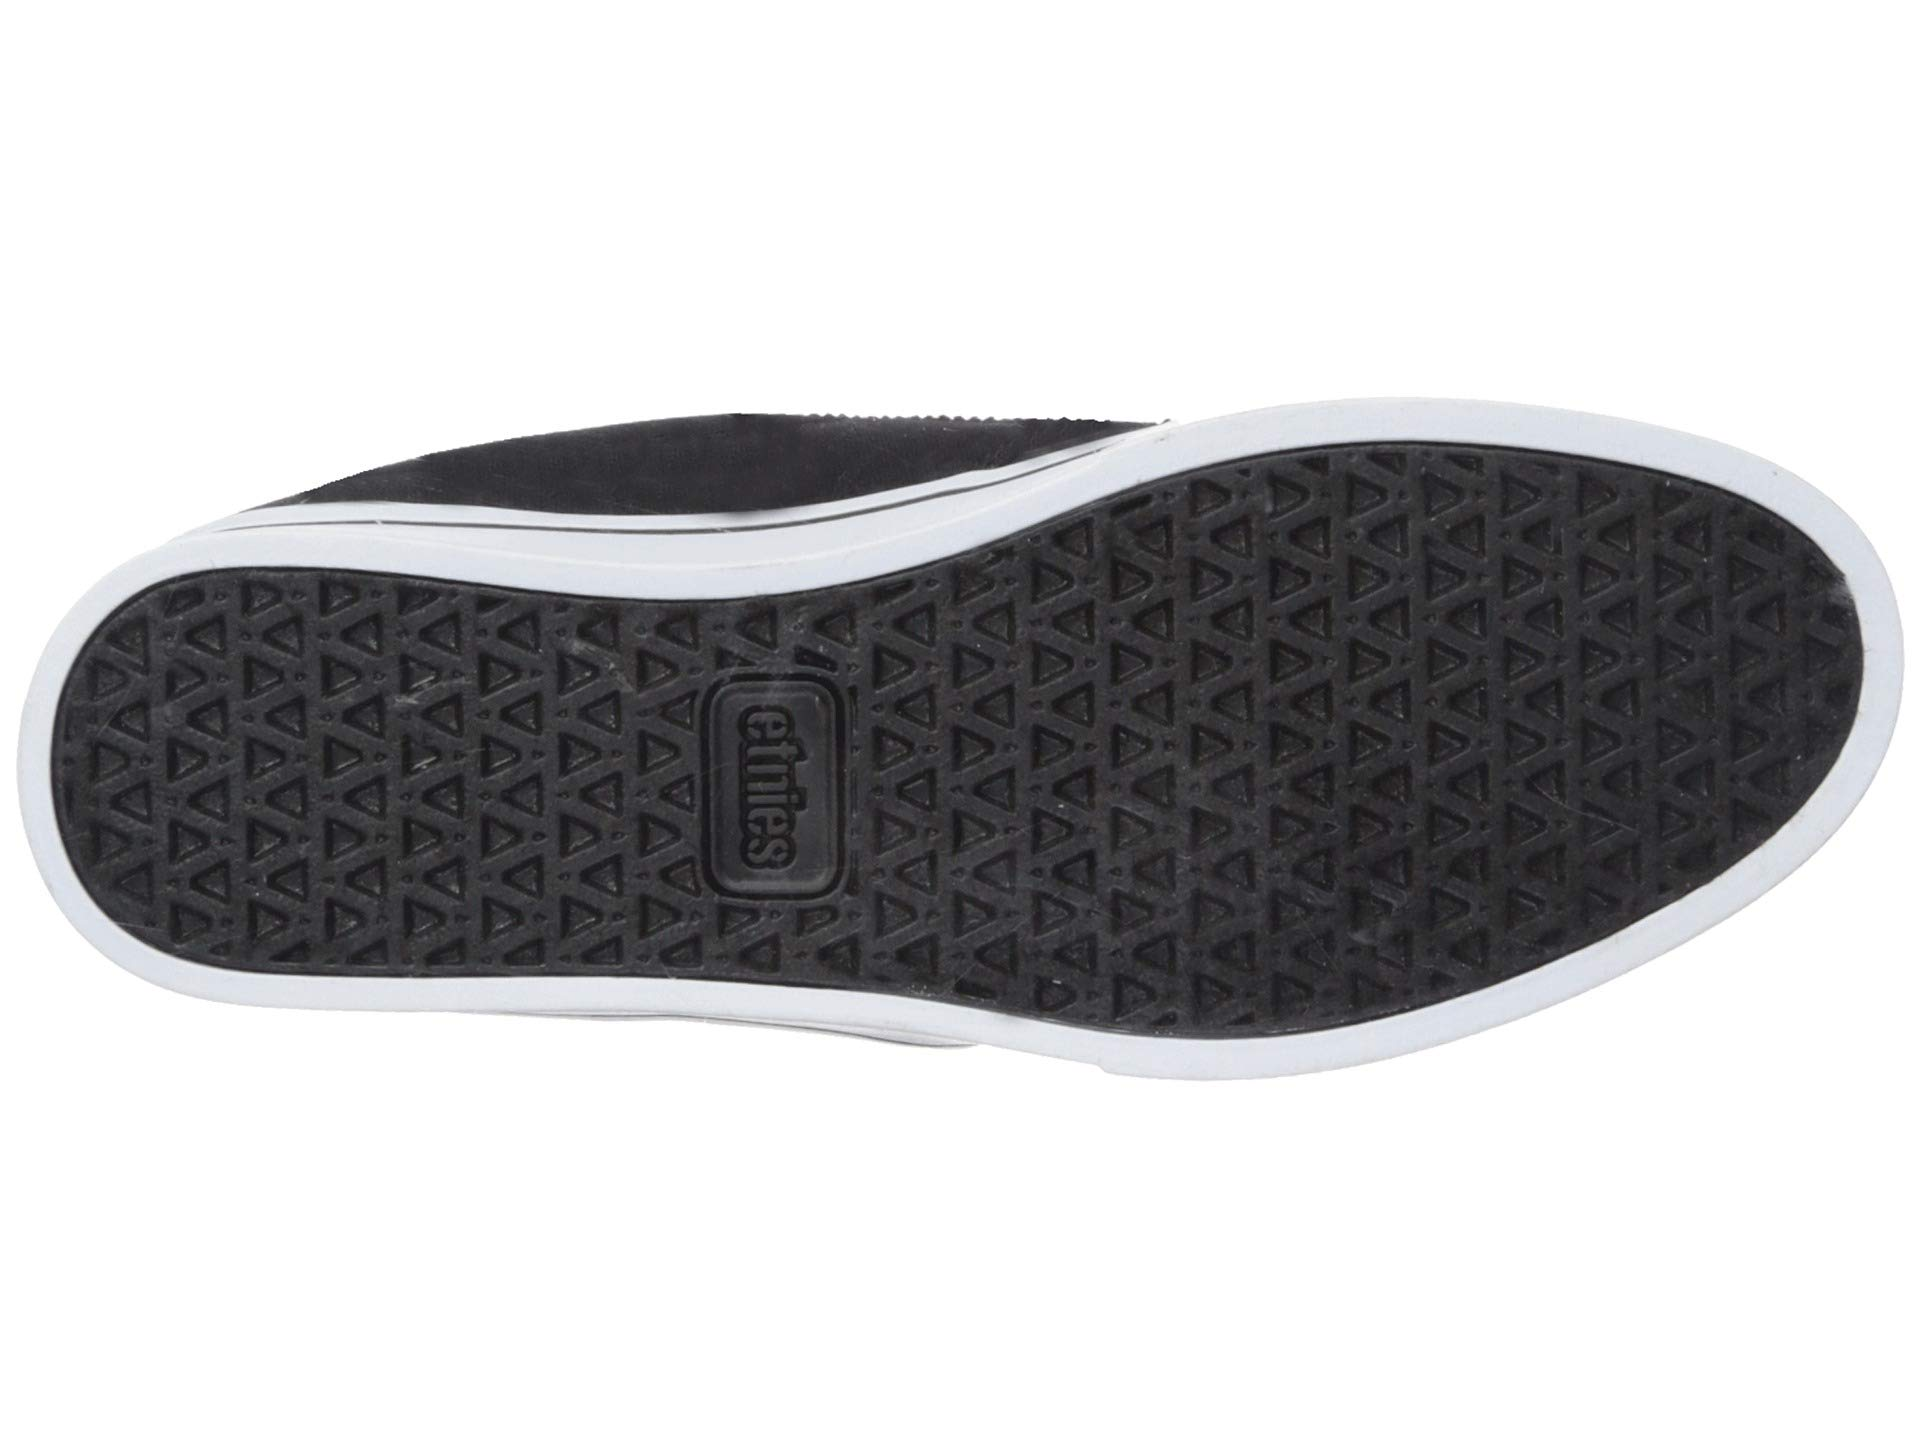chevron: (998, 551, 1451, 961), (615, 620, 940, 974), (222, 638, 541, 961)
line: (998, 551, 1451, 961), (615, 620, 940, 974), (222, 638, 541, 961)
quad: (615, 620, 940, 974)
text: (615, 620, 940, 974)
triangle: (998, 551, 1451, 961), (615, 620, 940, 974), (222, 638, 541, 961)
